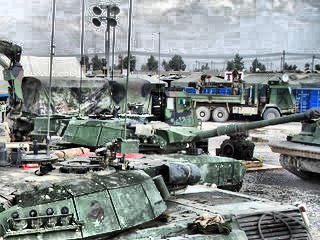tanks: (1, 171, 313, 240), (62, 112, 320, 190), (1, 123, 9, 144)
